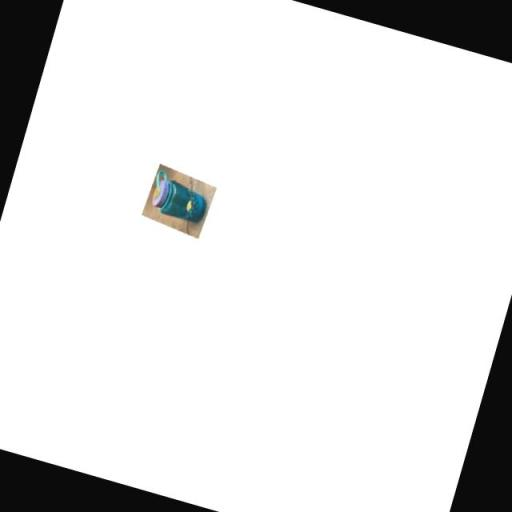bottle: (143, 165, 215, 232)
